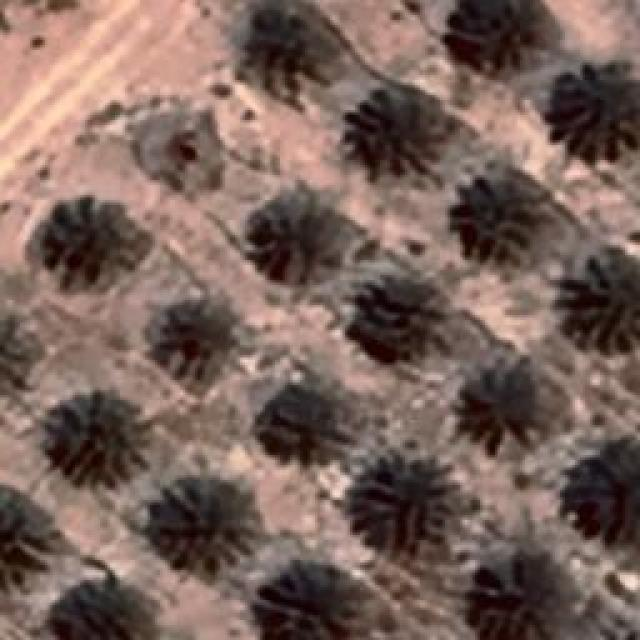PalmTree: (150, 470, 262, 575), (42, 390, 156, 490), (544, 52, 638, 160), (345, 81, 443, 181), (354, 448, 458, 542), (147, 298, 250, 390), (444, 172, 538, 266), (236, 3, 334, 92), (472, 547, 565, 640), (437, 0, 557, 72), (44, 192, 138, 282), (266, 190, 349, 290), (464, 364, 558, 446), (250, 570, 362, 638), (355, 290, 460, 362), (45, 570, 150, 640), (572, 248, 638, 350), (266, 384, 344, 464), (575, 440, 640, 532), (0, 485, 55, 593), (0, 305, 40, 390)
